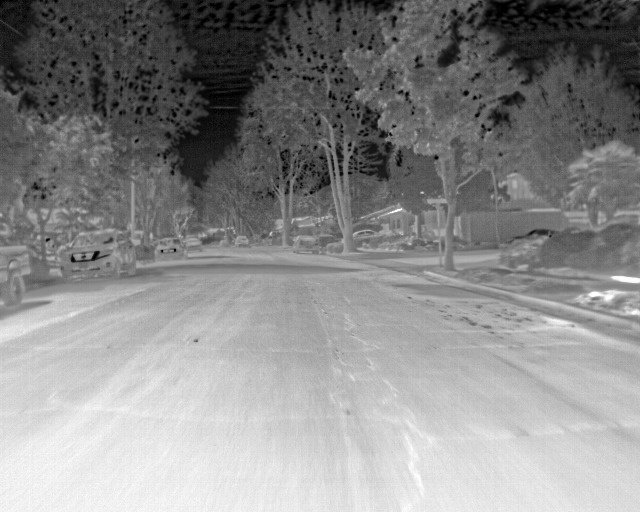vehicle: (59, 229, 137, 283), (1, 220, 32, 318), (154, 237, 187, 259), (235, 233, 251, 247)
